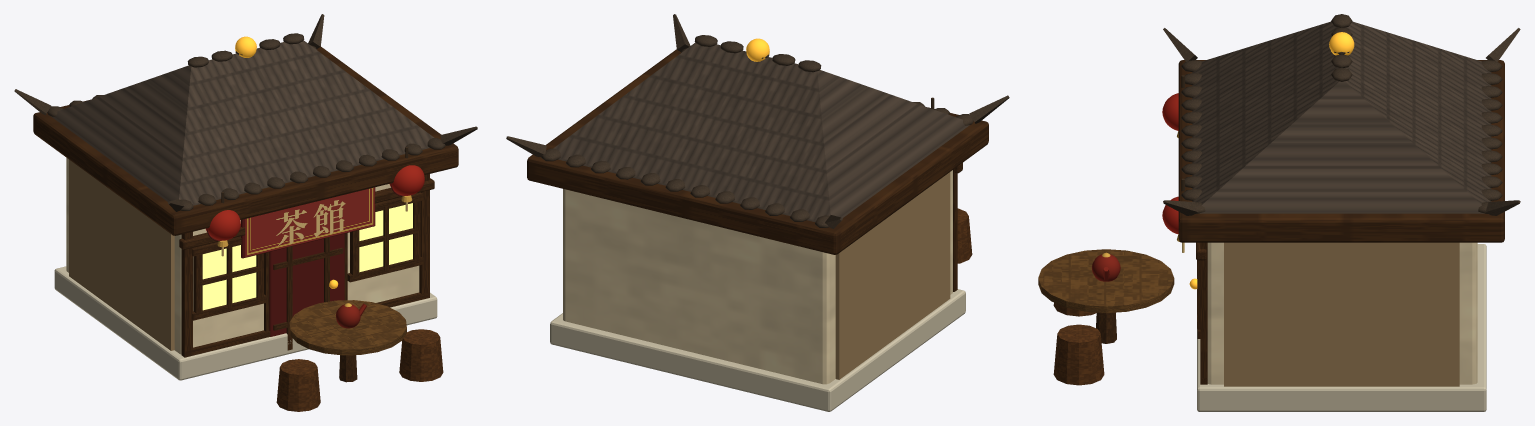
The model's file is teahouse.glb.
3 views of the same model, side by side, from view 1: azimuth 30°, elevation 25°; view 2: azimuth 150°, elevation 25°; view 3: azimuth 270°, elevation 25° (orthographic). The views are drawn at different scales.
Parts seen in each view (by area): view 1: roof, side_panel, roof_eave, base, body, sign_board, table_top, door, window_glow, window2_glow, stool, stool.001 (+17 smaller); view 2: roof, body, side_panel, roof_eave, base, stool, post_front; view 3: roof, side_panel.001, roof_eave, base, table_top, body, stool.001, post_front.001, table_leg, teapot, lantern_L_body, finial.
Boxes of the visible parts, x1=… form: roof: x1=51, y1=40, x2=434, y2=205; side_panel: x1=69, y1=159, x2=174, y2=350; roof_eave: x1=33, y1=46, x2=458, y2=235; base: x1=54, y1=266, x2=437, y2=380; body: x1=66, y1=157, x2=419, y2=354; sign_board: x1=245, y1=187, x2=374, y2=256; table_top: x1=289, y1=300, x2=406, y2=355; door: x1=269, y1=233, x2=344, y2=336; window_glow: x1=202, y1=245, x2=256, y2=310; window2_glow: x1=359, y1=203, x2=412, y2=272; stool: x1=276, y1=359, x2=320, y2=411; stool.001: x1=399, y1=329, x2=443, y2=381; roof: x1=553, y1=42, x2=969, y2=222; body: x1=563, y1=170, x2=952, y2=384; side_panel: x1=835, y1=172, x2=950, y2=379; roof_eave: x1=527, y1=49, x2=988, y2=254; base: x1=550, y1=289, x2=965, y2=411; stool: x1=957, y1=208, x2=972, y2=263; post_front: x1=953, y1=169, x2=957, y2=291; roof: x1=1192, y1=21, x2=1491, y2=213; side_panel.001: x1=1224, y1=242, x2=1459, y2=386; roof_eave: x1=1178, y1=60, x2=1504, y2=242; base: x1=1197, y1=244, x2=1486, y2=411; table_top: x1=1038, y1=249, x2=1174, y2=313; body: x1=1207, y1=242, x2=1477, y2=384; stool.001: x1=1053, y1=324, x2=1104, y2=385; post_front.001: x1=1200, y1=242, x2=1207, y2=377; table_leg: x1=1096, y1=312, x2=1116, y2=343; teapot: x1=1092, y1=254, x2=1120, y2=281; lantern_L_body: x1=1162, y1=93, x2=1178, y2=130; finial: x1=1329, y1=32, x2=1354, y2=55.
Bounding box in the file's own units: 4.55 × 3.74 × 5.32.
Materials: 18 (7 with a texture image).
